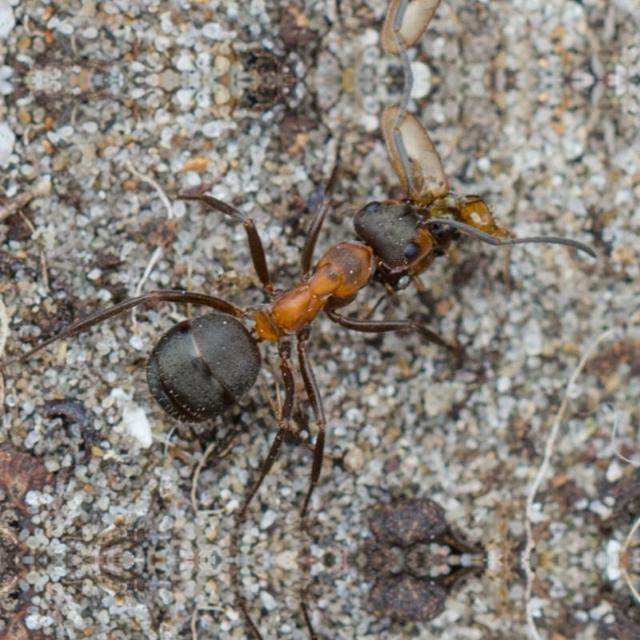Formica: (98, 138, 490, 464)
